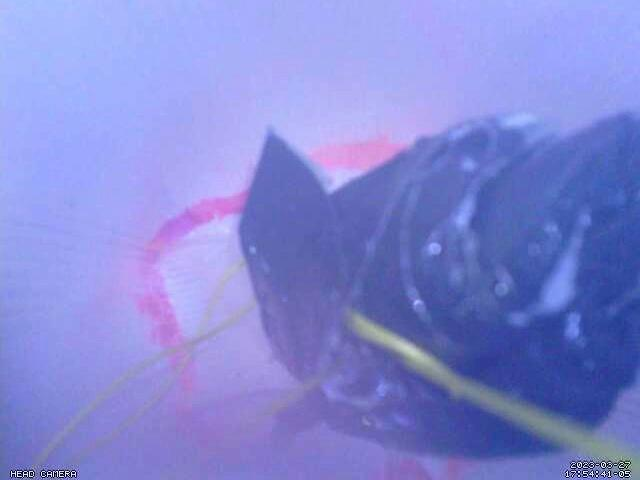head: (134, 134, 479, 480)
